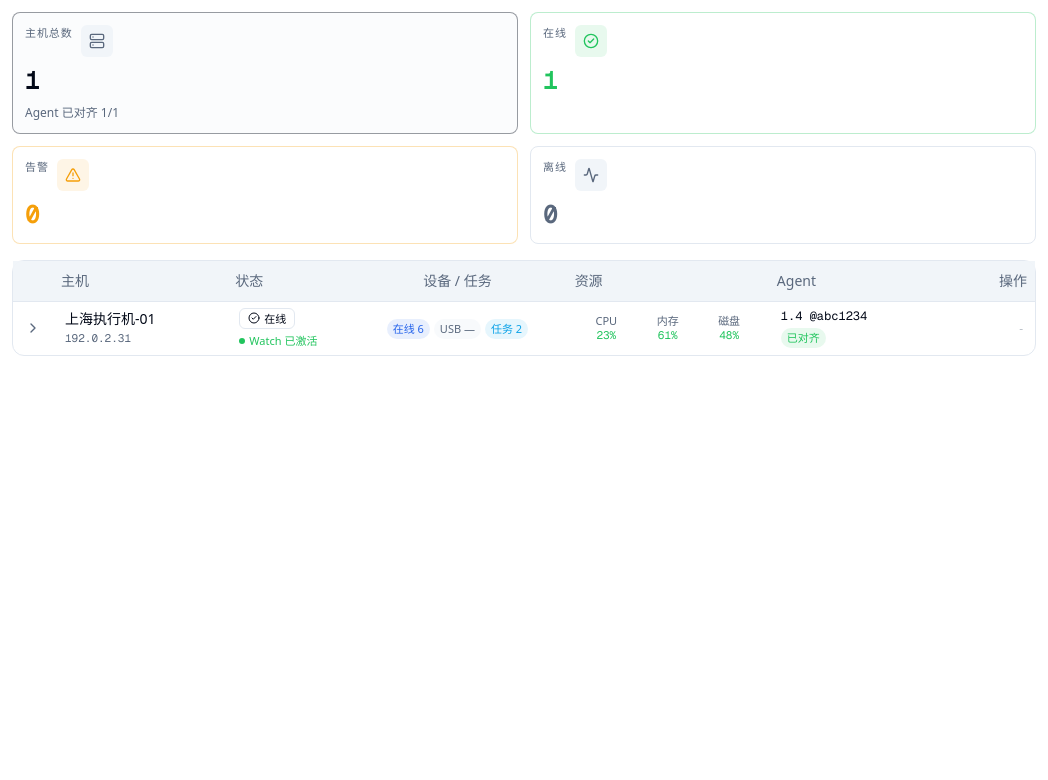
Test case: ExpandableHostTable › #3550 explains the digest-based alignment when expected revision diverges from reported
Click the text "上海执行机-01".
click(110, 319)  # box [65,309,156,328]
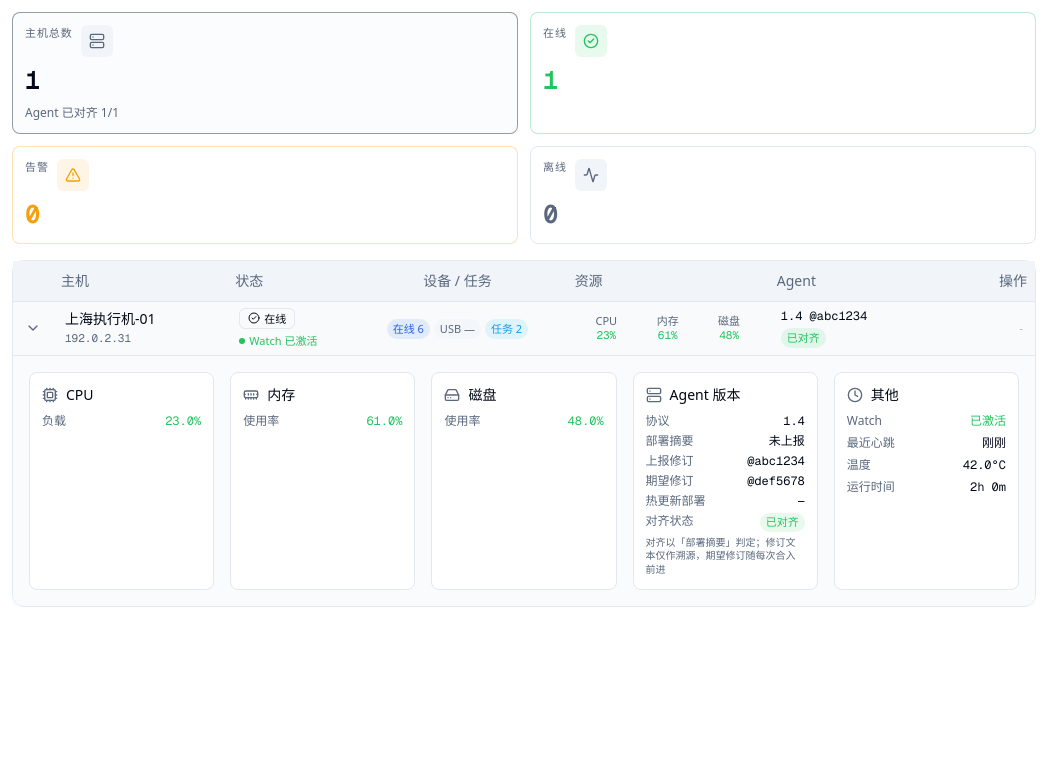
Now the text "对齐以「部署摘要」判定；修订文本仅作溯源，期望修订随每次合入前进" is shown, box [646,536,805,577]
